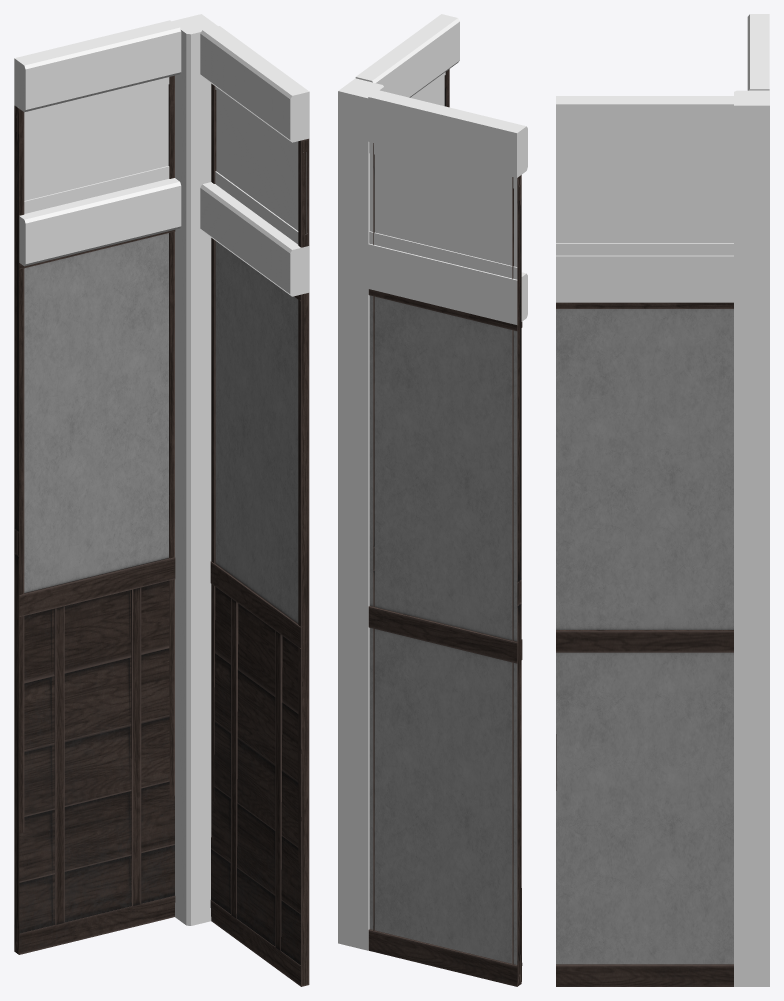
Rendered from WallHalf_Angle01.FBX.
The picture shows the model from 3 angles, left to right: view 1: azimuth 30°, elevation 25°; view 2: azimuth 150°, elevation 25°; view 3: azimuth 270°, elevation 25°; orthographic projection. The views are drawn at different scales.
Visible parts, largest first — view 1: WallHalf_A_04, WallHalf_A_02, WallHalf_A_07, WallHalf_A_01, WallHalf_A_03, WallHalf_A_05, WallHalf_A_06; view 2: WallHalf_A_04, WallHalf_A_07, WallHalf_A_01, WallHalf_A_03, WallHalf_A_05, WallHalf_A_06; view 3: WallHalf_A_02, WallHalf_A_07, WallHalf_A_06, WallHalf_A_05, WallHalf_A_01.
Part boxes in pixels (box(x1,y1,x2,y2)): WallHalf_A_04: box(14, 75, 175, 954); WallHalf_A_02: box(210, 83, 309, 986); WallHalf_A_07: box(172, 14, 217, 925); WallHalf_A_01: box(14, 20, 181, 266); WallHalf_A_03: box(24, 77, 169, 213); WallHalf_A_05: box(200, 26, 309, 296); WallHalf_A_06: box(215, 86, 306, 244); WallHalf_A_04: box(368, 143, 522, 986); WallHalf_A_07: box(338, 78, 383, 950); WallHalf_A_01: box(368, 90, 527, 324); WallHalf_A_03: box(369, 142, 517, 279); WallHalf_A_05: box(355, 14, 459, 97); WallHalf_A_06: box(410, 72, 445, 105); WallHalf_A_02: box(556, 302, 733, 986); WallHalf_A_07: box(734, 90, 769, 986); WallHalf_A_06: box(556, 150, 733, 255); WallHalf_A_05: box(556, 96, 733, 302); WallHalf_A_01: box(747, 14, 769, 90).
Size of the model in its own units: 0.7237 by 3.3 by 0.7237.
